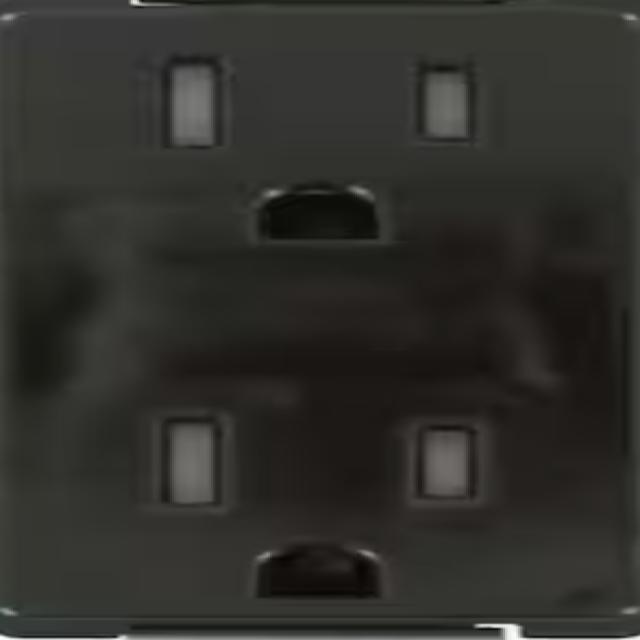type_b: (5, 14, 640, 620), (2, 354, 640, 619), (9, 17, 633, 266)
